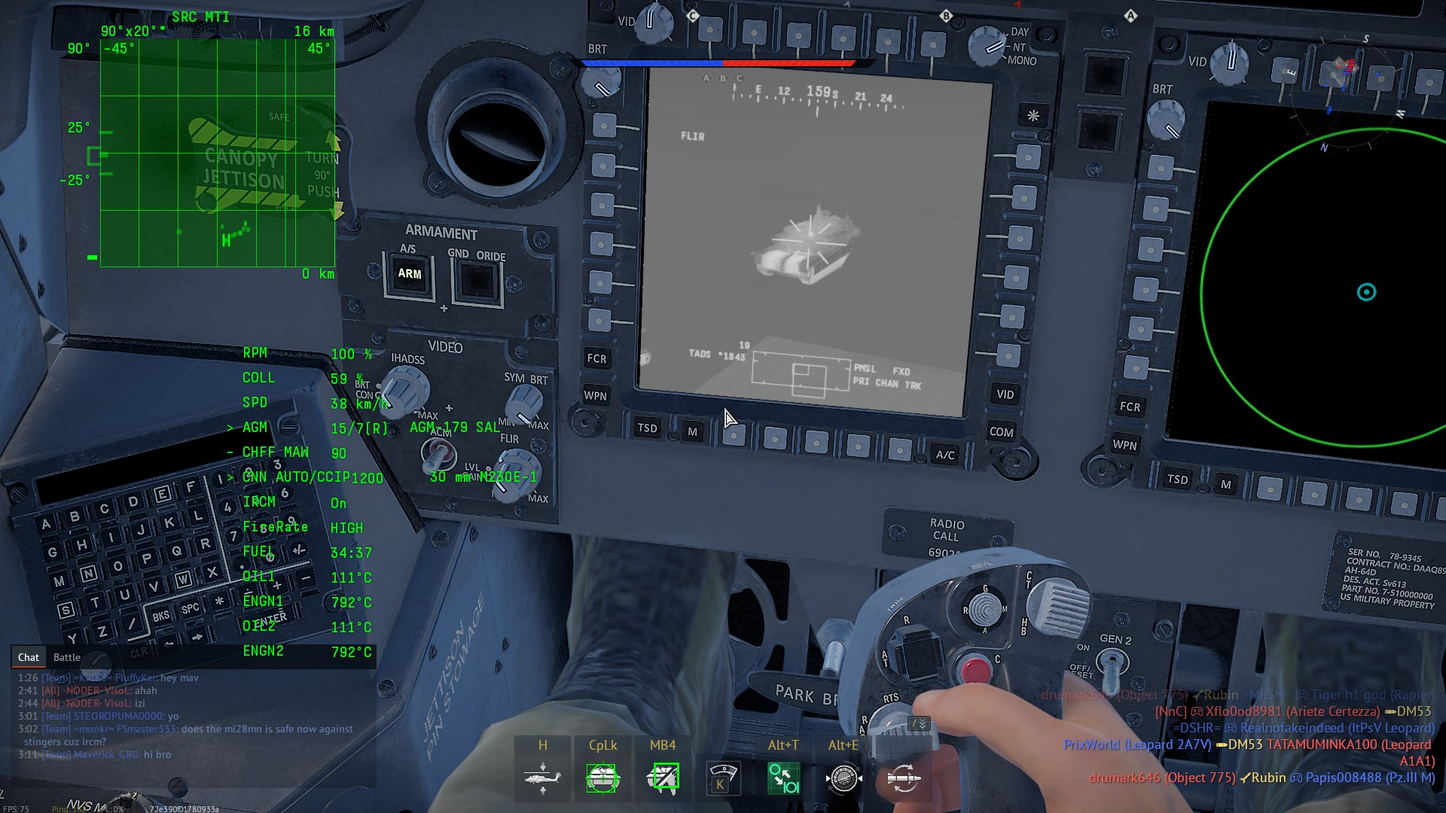abrams: (751, 210, 861, 285)
